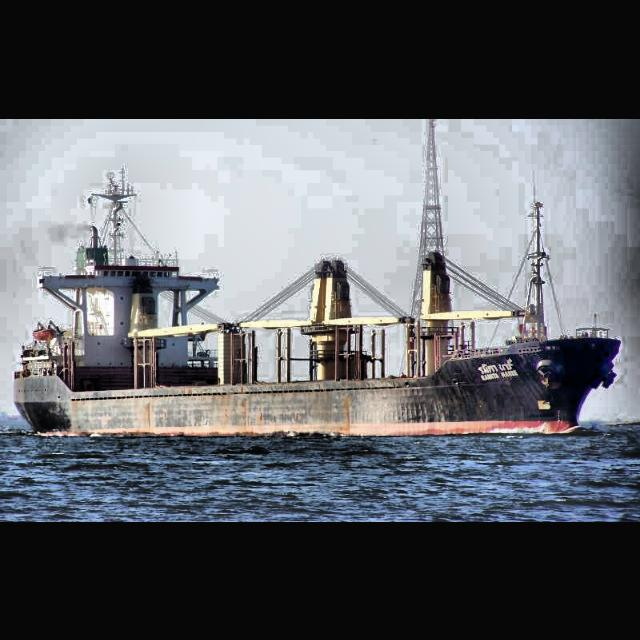bulk_carrier: (11, 216, 623, 436)
